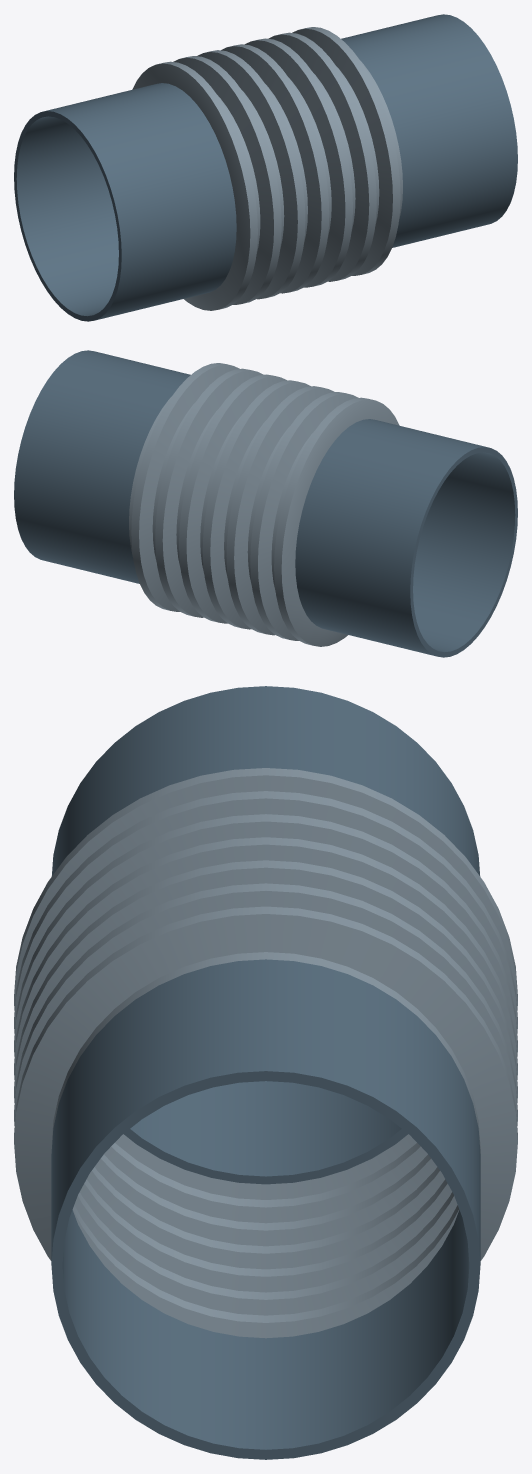
Rendered from silf-dn200-L465-D219.glb.
The picture shows the model from 3 angles, top to bottom: view 1: azimuth 30°, elevation 25°; view 2: azimuth 150°, elevation 25°; view 3: azimuth 270°, elevation 25°; orthographic projection. The views are drawn at different scales.
Visible parts, largest first — view 1: prokladka_silfon_1, patrubok_1, patrubok_2; view 2: prokladka_silfon_1, patrubok_1, patrubok_2; view 3: prokladka_silfon_1, patrubok_2, patrubok_1.
Boxes of the visible parts, x1,y1,x2,y2 form: prokladka_silfon_1: (132,27,402,310); patrubok_1: (14,83,236,321); patrubok_2: (341,14,517,247); prokladka_silfon_1: (129,363,399,646); patrubok_1: (295,419,517,657); patrubok_2: (14,350,190,583); prokladka_silfon_1: (14,768,517,1338); patrubok_2: (51,959,480,1459); patrubok_1: (51,686,480,1184).
Size of the model in its own units: 465 by 257 by 257.
